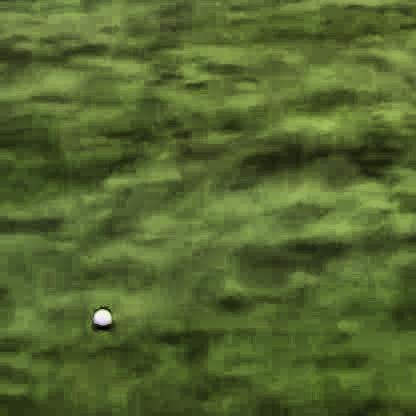golfball: (89, 301, 108, 325)
